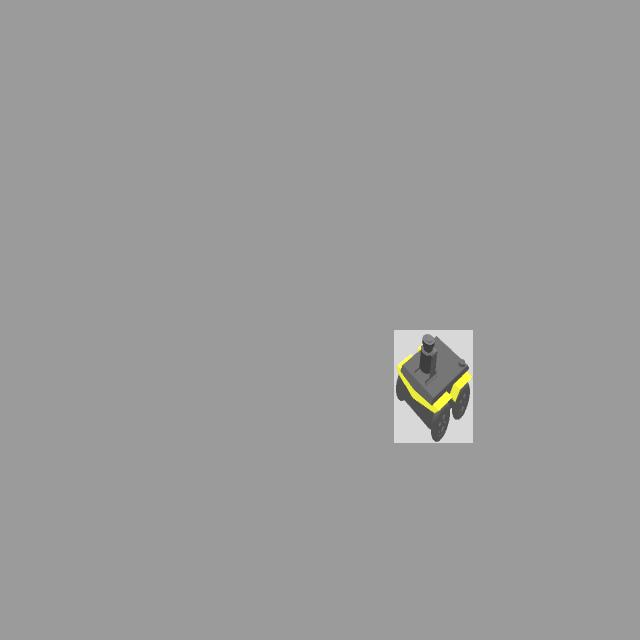jackal: (394, 330, 473, 443)
